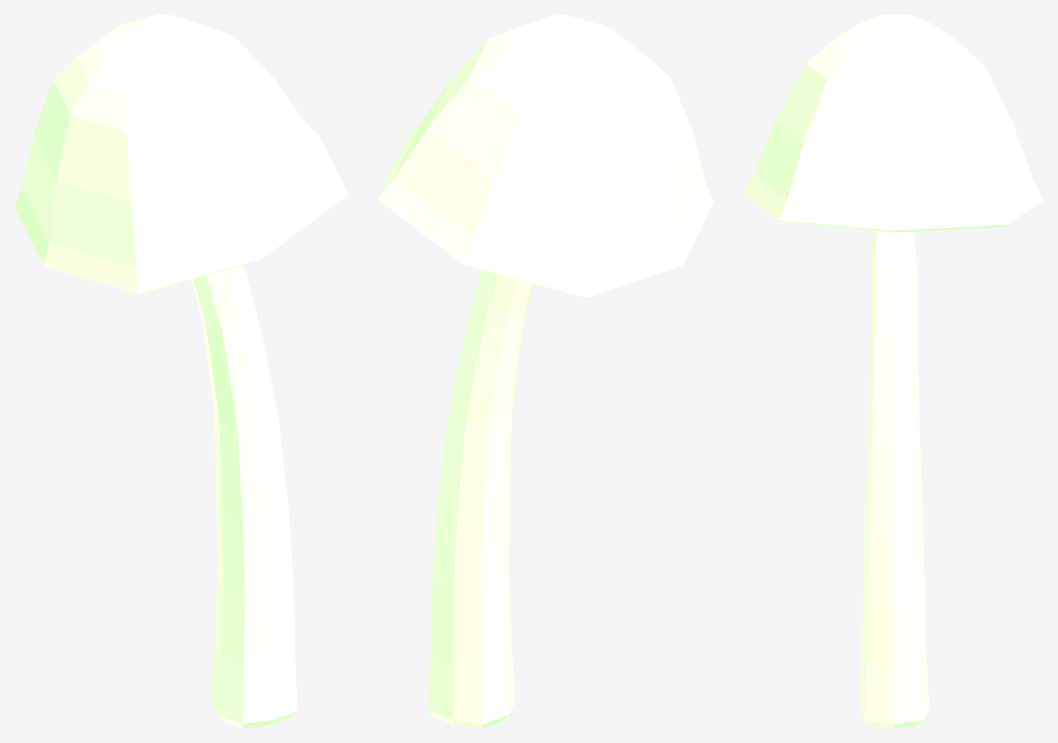
The model's file is MushroomLightB.fbx.
The picture shows the model from 3 angles, left to right: view 1: azimuth 30°, elevation 25°; view 2: azimuth 150°, elevation 25°; view 3: azimuth 270°, elevation 25°; orthographic projection. The views are drawn at different scales.
Visible parts, largest first — view 1: MushroomLightB; view 2: MushroomLightB; view 3: MushroomLightB.
Part boxes in pixels (x1,y1,x2,y2): MushroomLightB: (14,14,348,728); MushroomLightB: (377,14,713,728); MushroomLightB: (742,14,1043,728).
Size of the model in its own units: 394 by 979 by 407.
